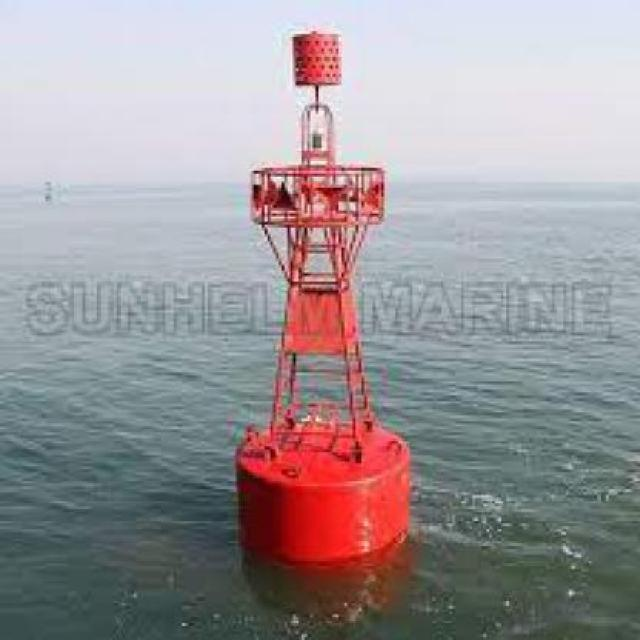buoy: (211, 20, 422, 576)
